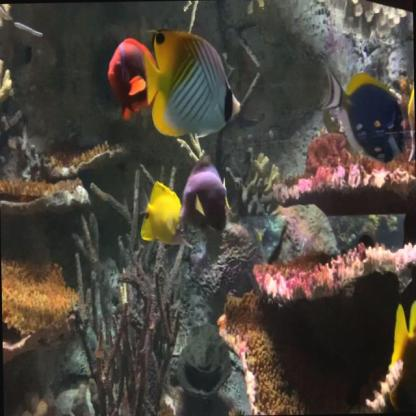fish: (141, 25, 242, 139), (320, 61, 406, 165), (107, 36, 161, 122), (178, 151, 233, 233), (138, 178, 193, 250), (386, 292, 415, 414), (406, 66, 415, 163)
